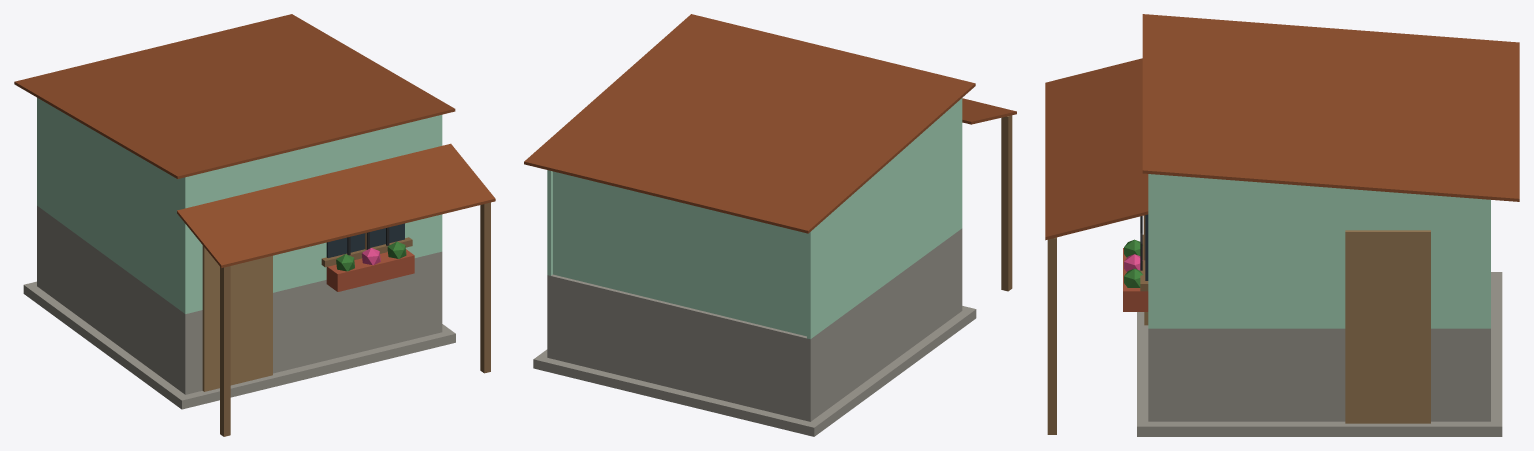
Rendered from BAY_I_SariSari_P.glb.
The picture shows the model from 3 angles, left to right: view 1: azimuth 30°, elevation 25°; view 2: azimuth 150°, elevation 25°; view 3: azimuth 270°, elevation 25°; orthographic projection. The views are drawn at different scales.
Visible parts, largest first — view 1: BAY_I_SariSari_P; view 2: BAY_I_SariSari_P; view 3: BAY_I_SariSari_P.
Boxes of the visible parts, <box> form: BAY_I_SariSari_P: <box>14,14,495,436</box>; BAY_I_SariSari_P: <box>524,14,1016,436</box>; BAY_I_SariSari_P: <box>1045,14,1519,436</box>.
Bounding box in the file's own units: 3.24 × 2.58 × 4.15.
1 material, 1 textured.
